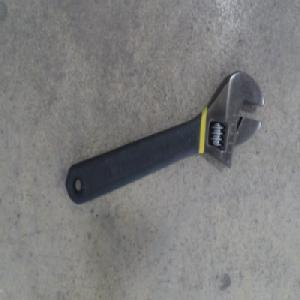AdjustableWrench: (65, 73, 263, 207)
